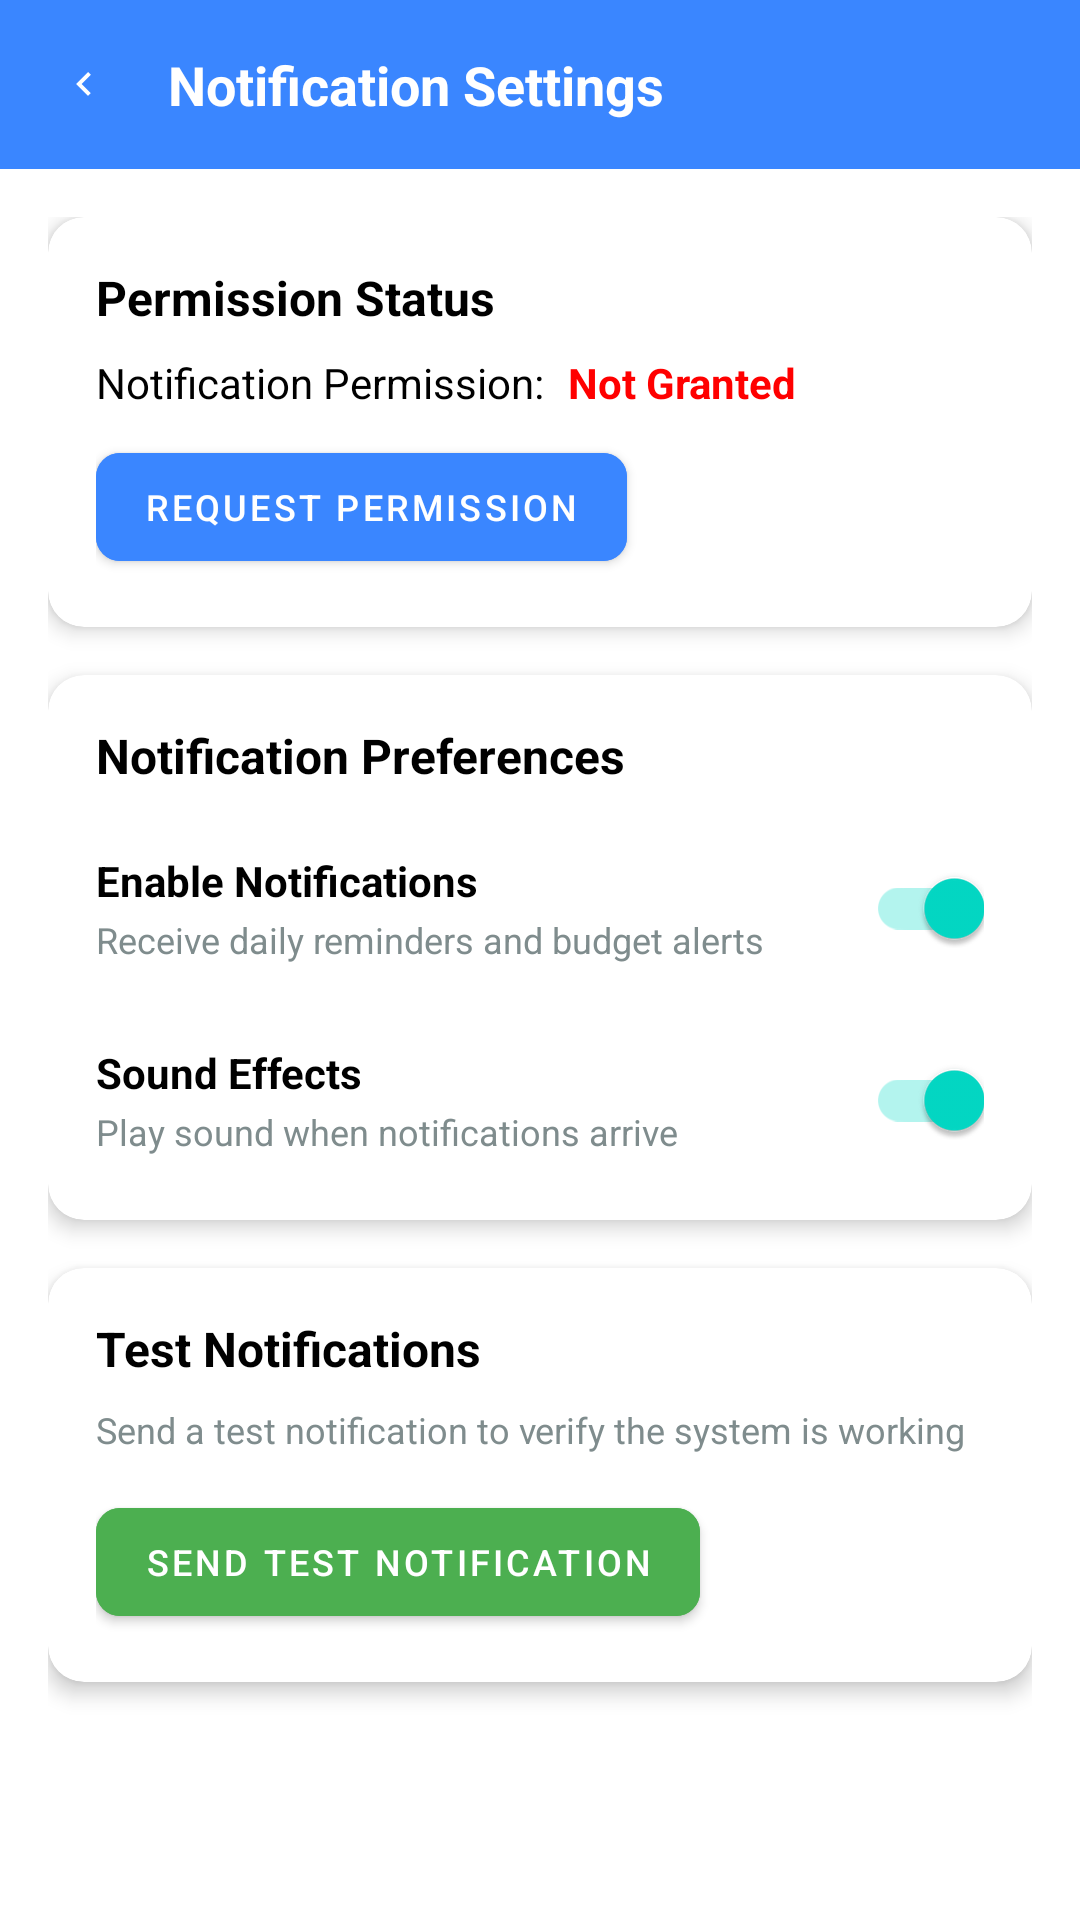

Icon bounding boxes for this 1080px x 1920px phone screenshot, format (x1, y1, x2, y2):
chevron backward: (76, 72, 91, 96)
